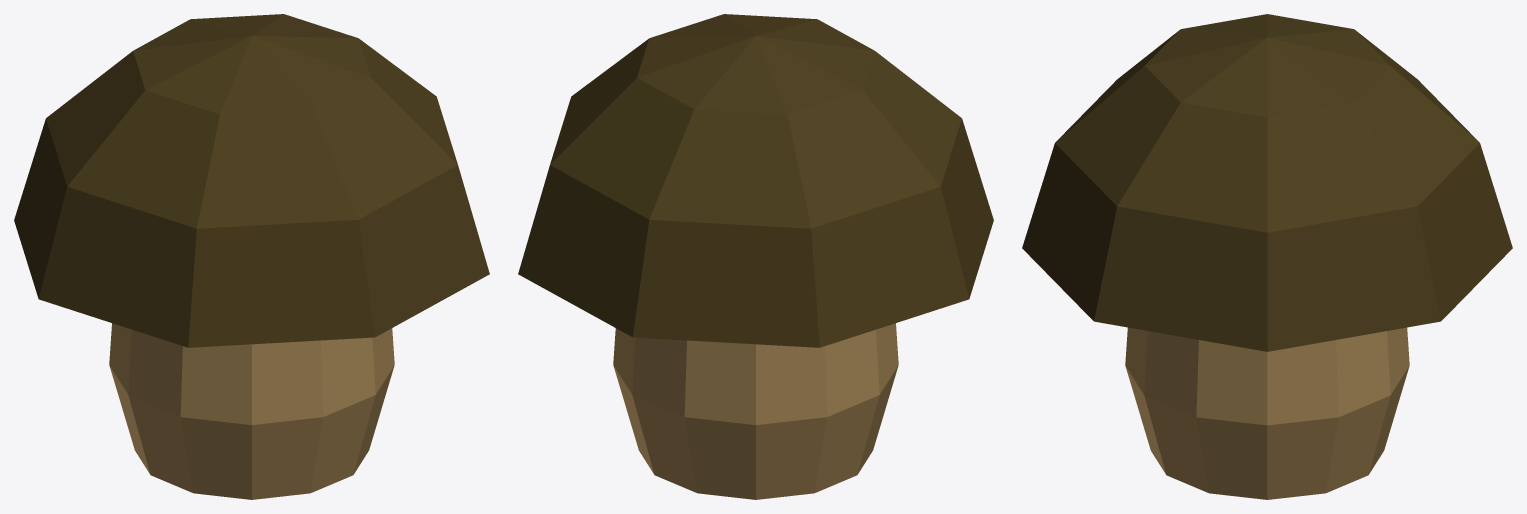
The model's file is Shroom1.fbx.
3 views of the same model, side by side, from view 1: azimuth 30°, elevation 25°; view 2: azimuth 150°, elevation 25°; view 3: azimuth 270°, elevation 25° (orthographic).
Visible parts, largest first — view 1: Sphere, Cylinder; view 2: Sphere, Cylinder; view 3: Sphere, Cylinder.
Part boxes in pixels (x1,y1,x2,y2): Sphere: [14, 14, 489, 347]; Cylinder: [109, 323, 394, 499]; Sphere: [518, 14, 993, 347]; Cylinder: [613, 323, 898, 499]; Sphere: [1022, 14, 1512, 351]; Cylinder: [1125, 327, 1409, 499].
Size of the model in its own units: 237 by 220 by 237.
